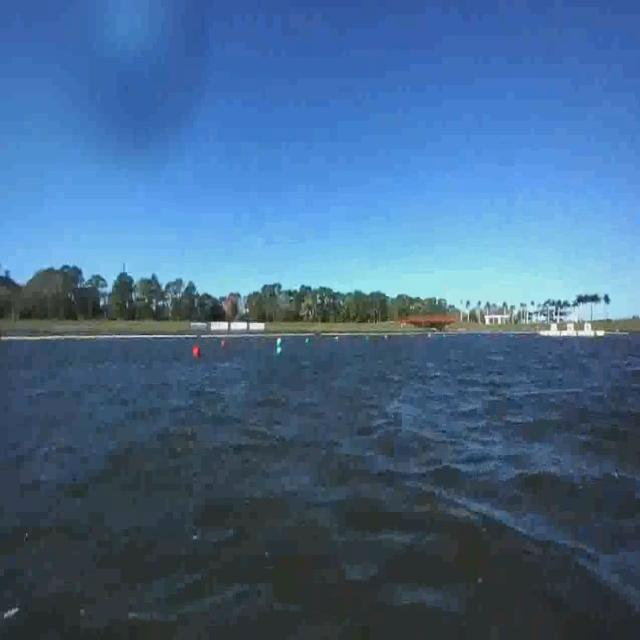green-column-buoy: (277, 338, 283, 359)
red-buoy: (192, 345, 199, 358)
